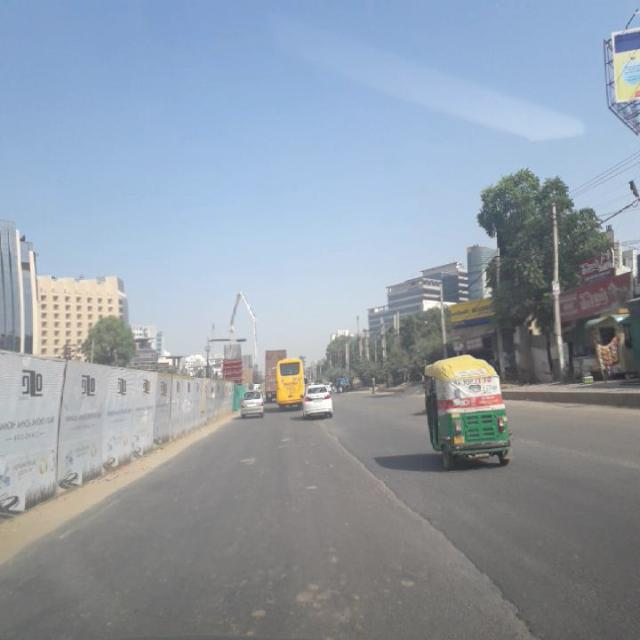crack: (306, 412, 422, 510)
